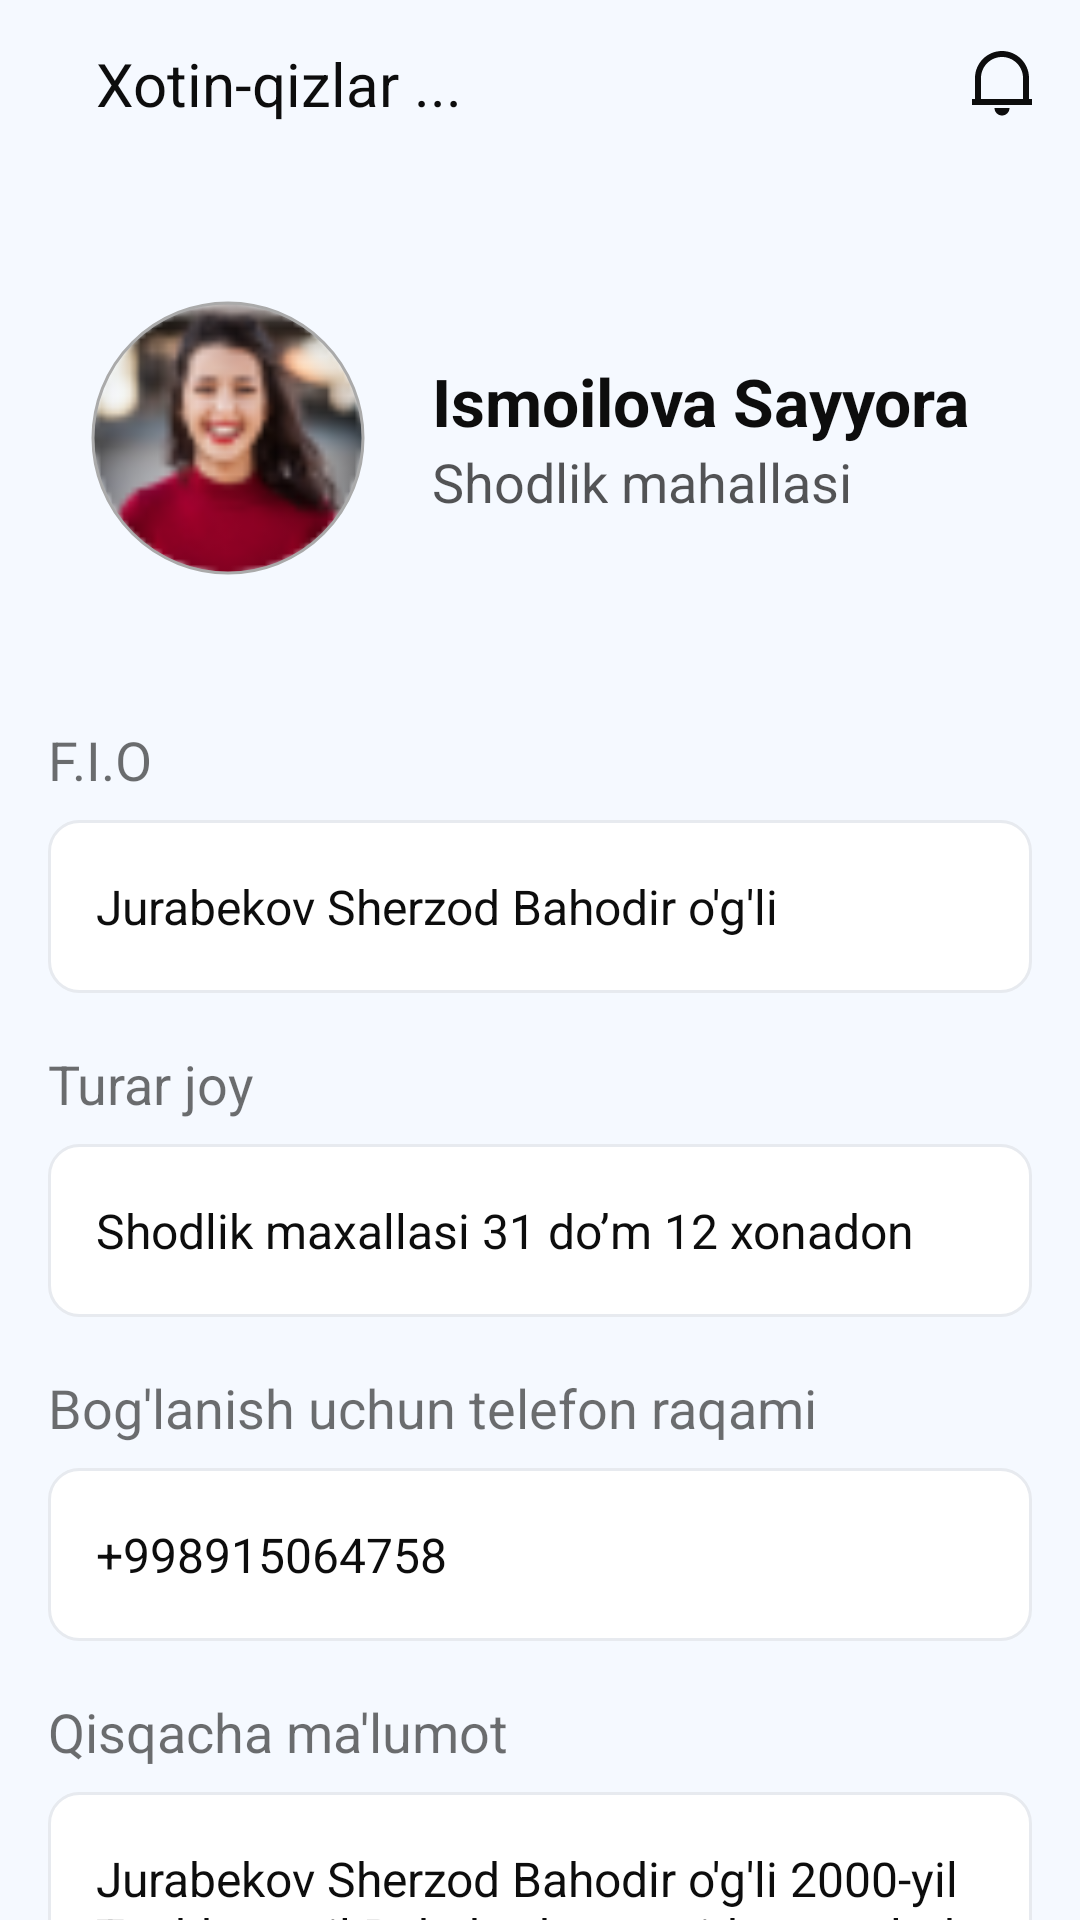

Icon click points for this 1080x1920 phone screenshot, format [x,y]:
girl: [228,438]
notification: [1002,83]
